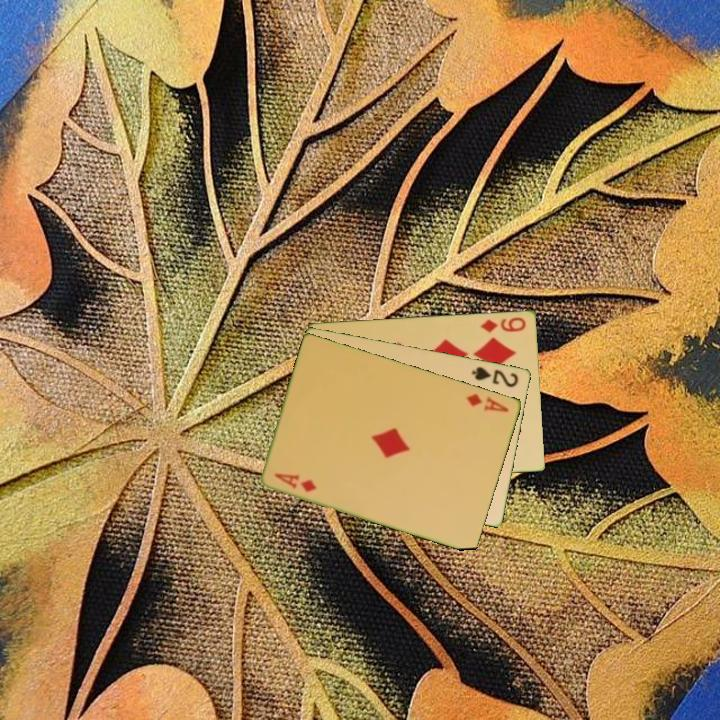2s: (468, 363, 521, 390)
9d: (477, 313, 529, 335)
Ad: (271, 469, 320, 495), (463, 390, 512, 415)
